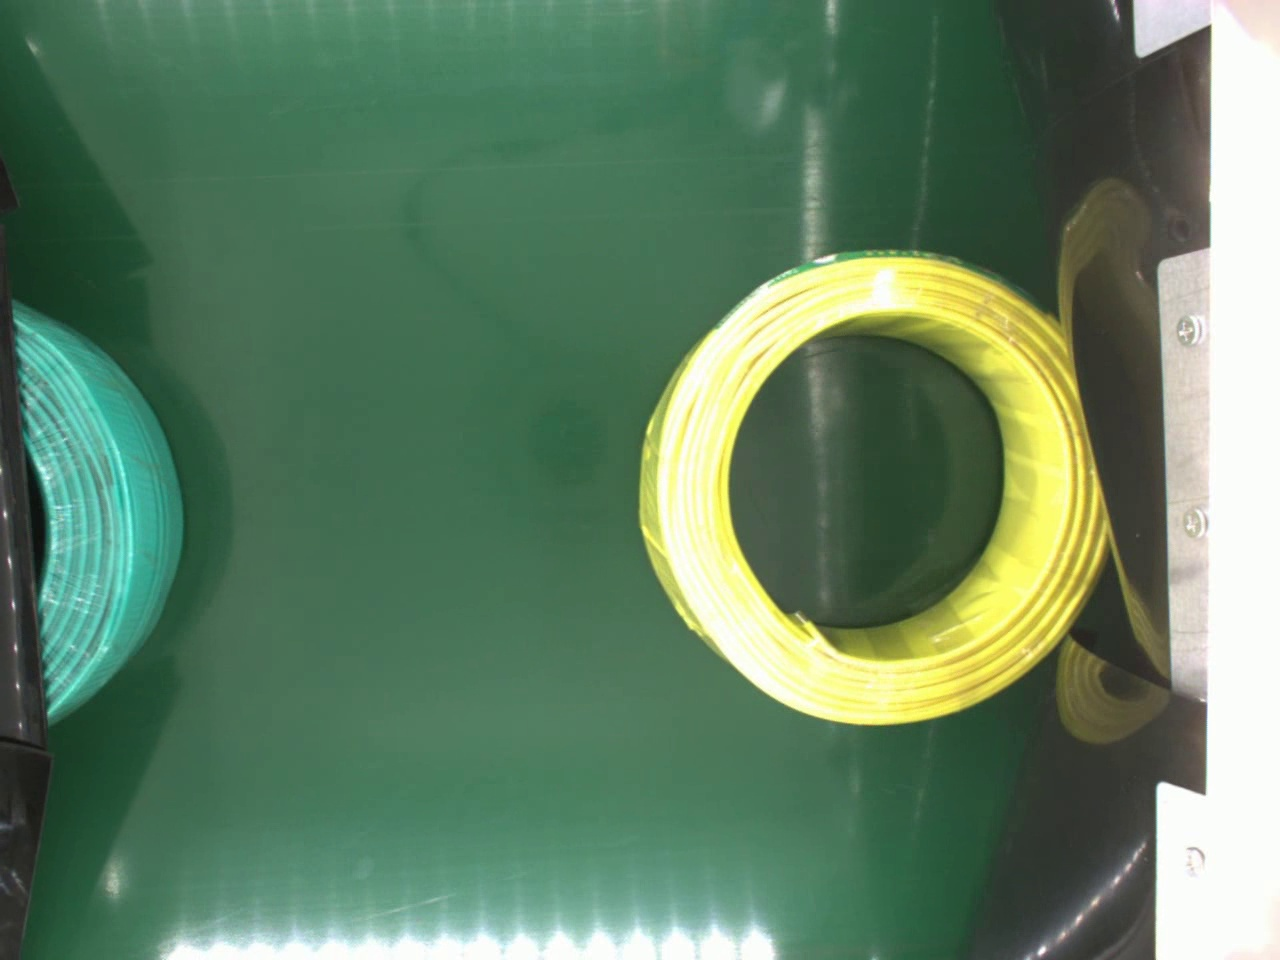green: (5, 294, 186, 723)
yellow: (629, 243, 1109, 730)
